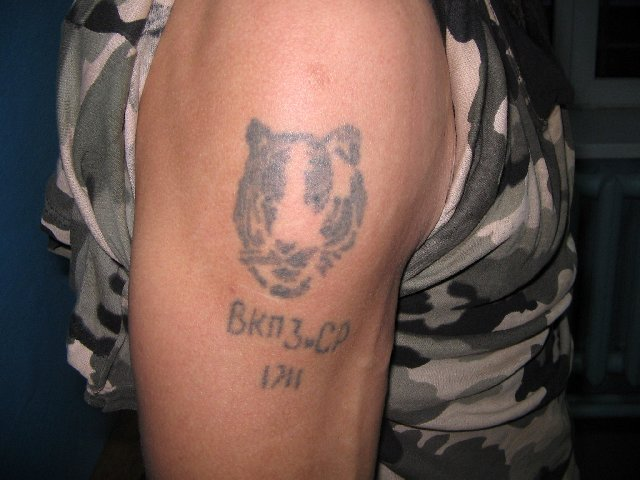tatu3_bukva: (228, 298, 358, 358)
tatu5_tigr: (234, 116, 370, 297)
